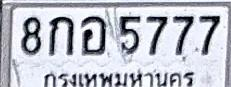5: (119, 15, 141, 56)
7: (146, 15, 167, 55), (173, 15, 194, 55), (199, 15, 220, 55)
8: (20, 16, 42, 55)
A01: (48, 16, 74, 56)
A43: (80, 15, 106, 55)
BKK: (40, 68, 197, 87)
